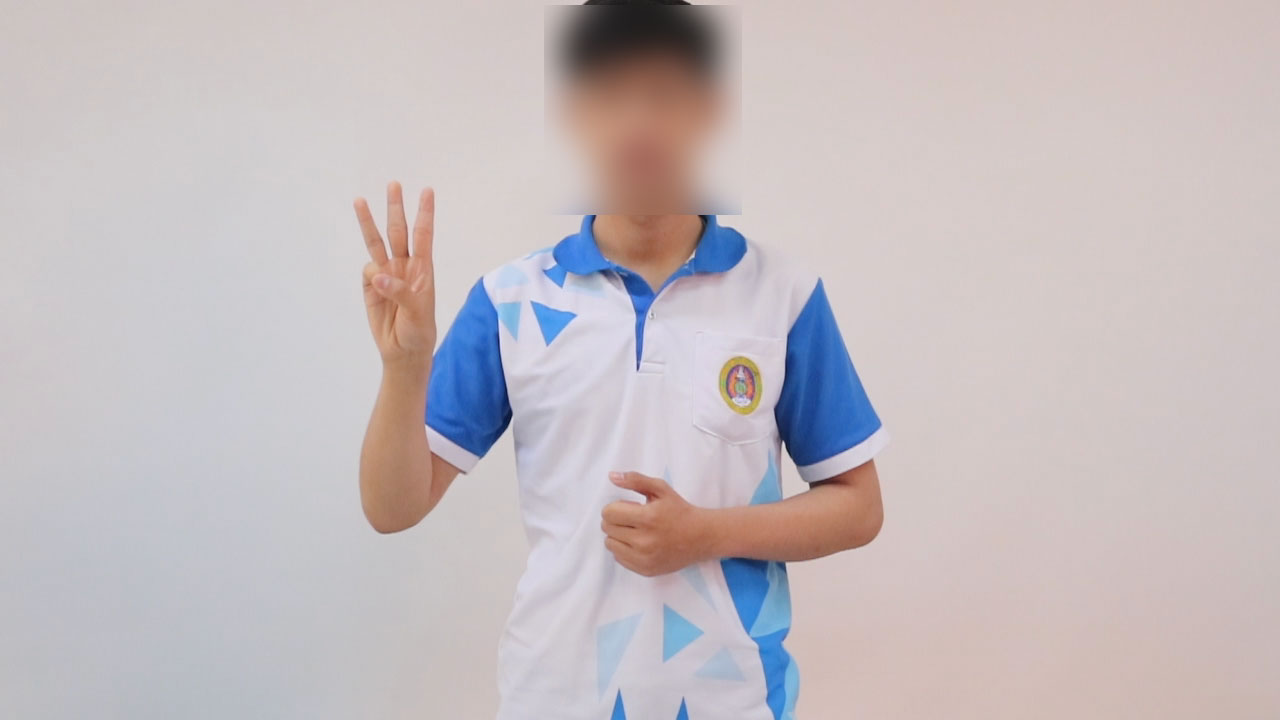wor: (345, 172, 440, 376)
